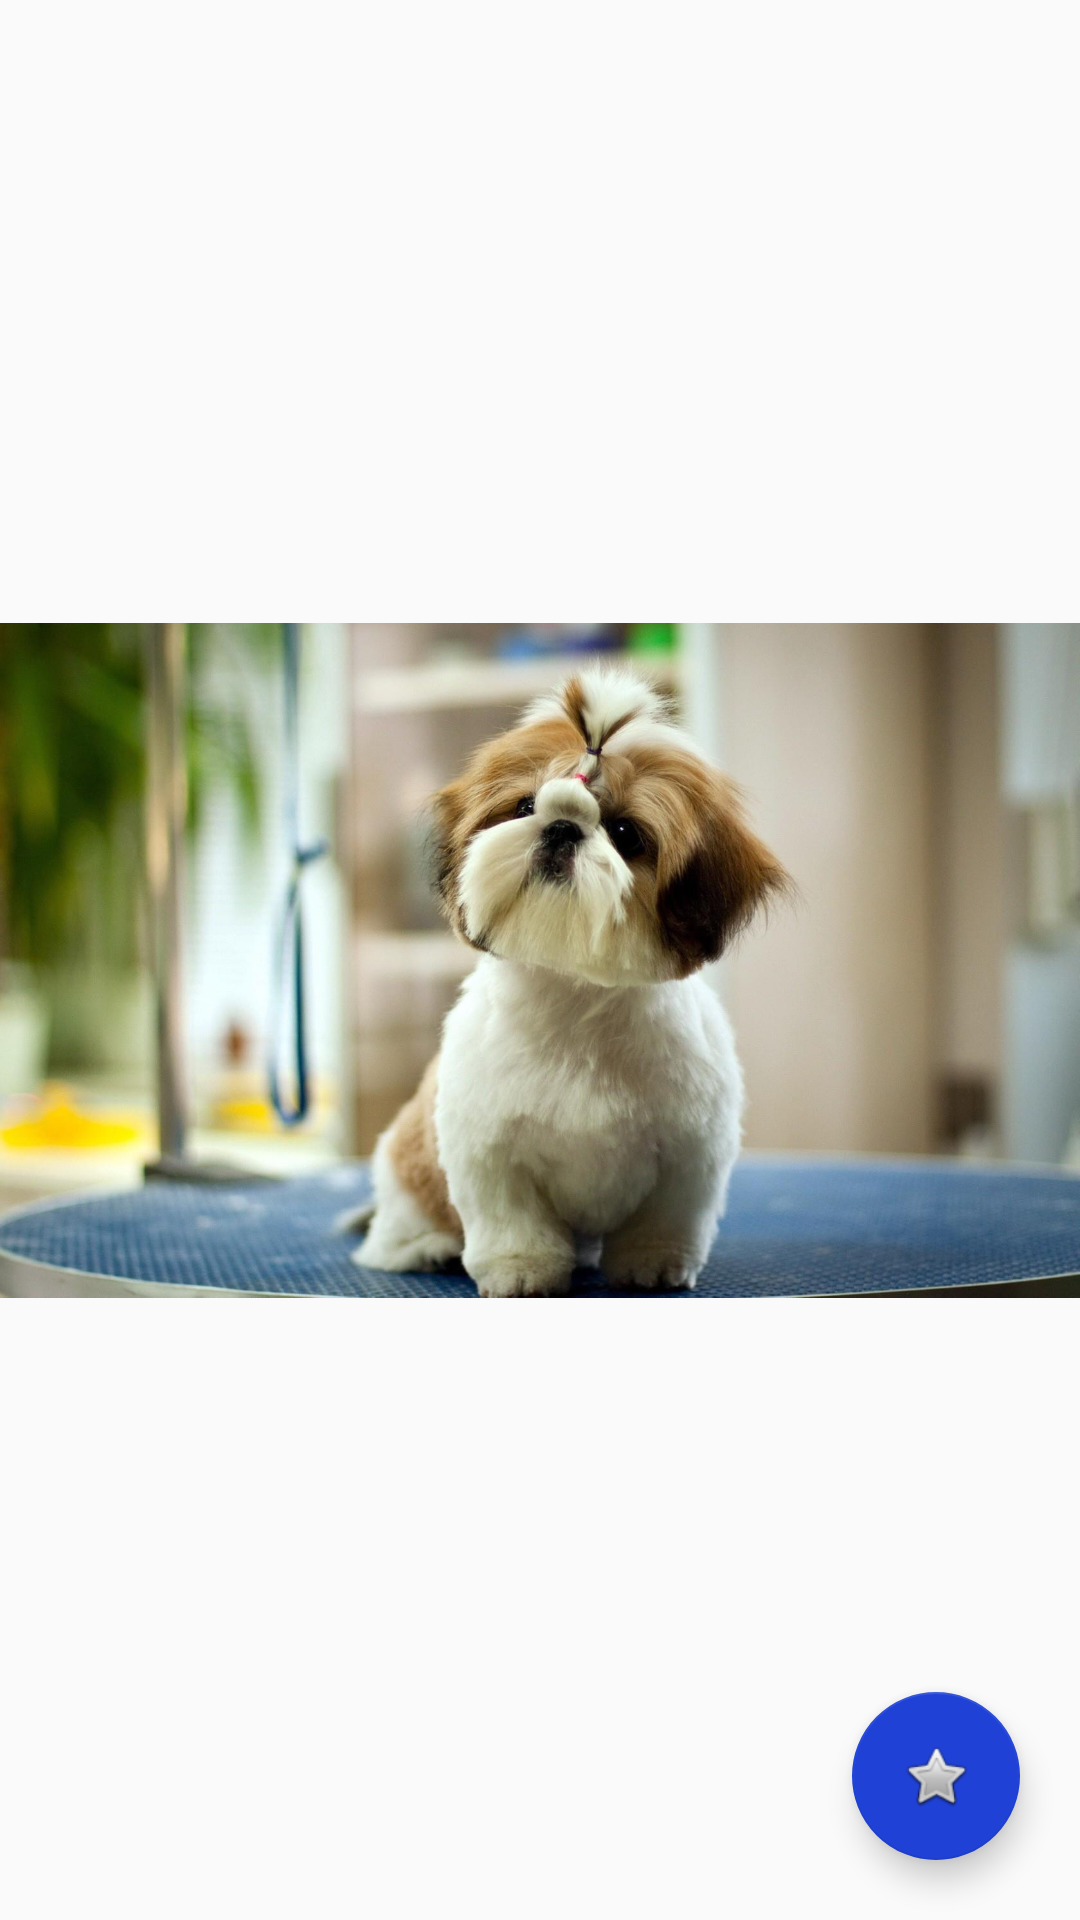

Named icons in this screenshot (1080 × 1920) and their bounding boxes, (x1, y1, x2, y2):
star: (852, 1692, 1020, 1860)
